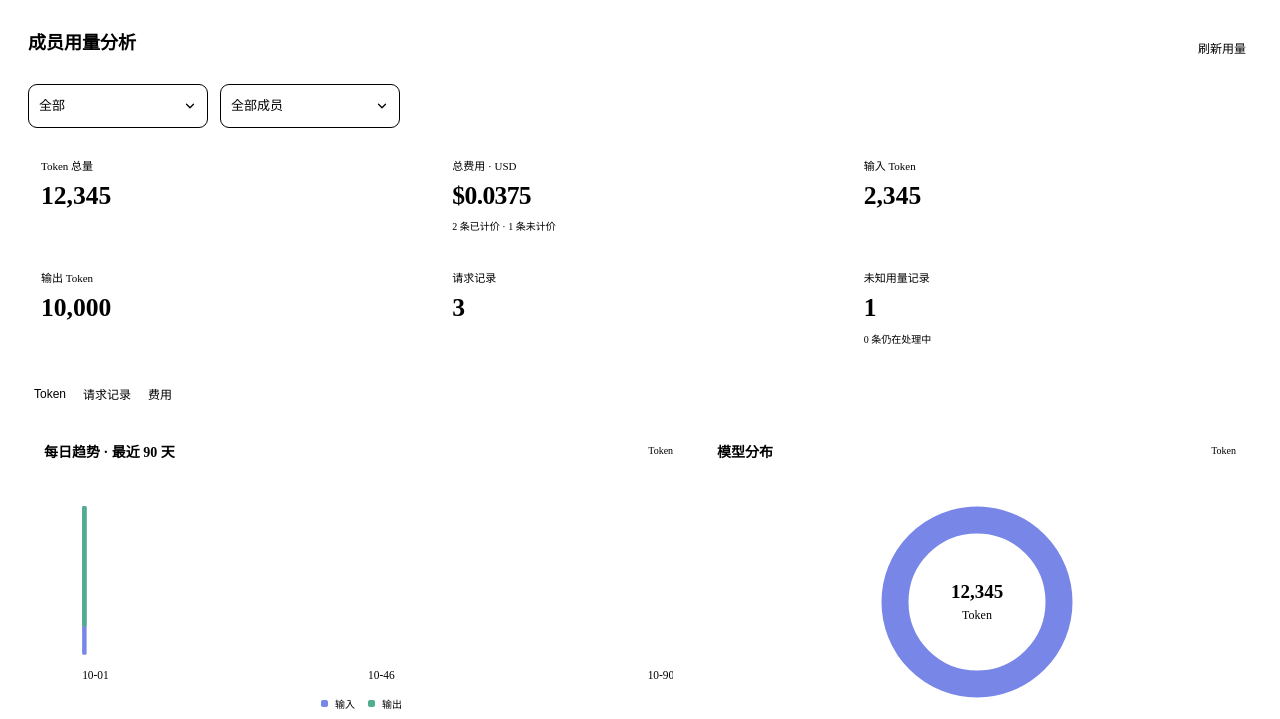
administrator filters member and range, switches chart units, and sees comparison
This screenshot has width=1280, height=719.
Press the mouse on the dropdown named "用量时间范围": (118,106) [28,84,208,128]
Click the dropdown named "用量时间范围": (118,106) [28,84,208,128]
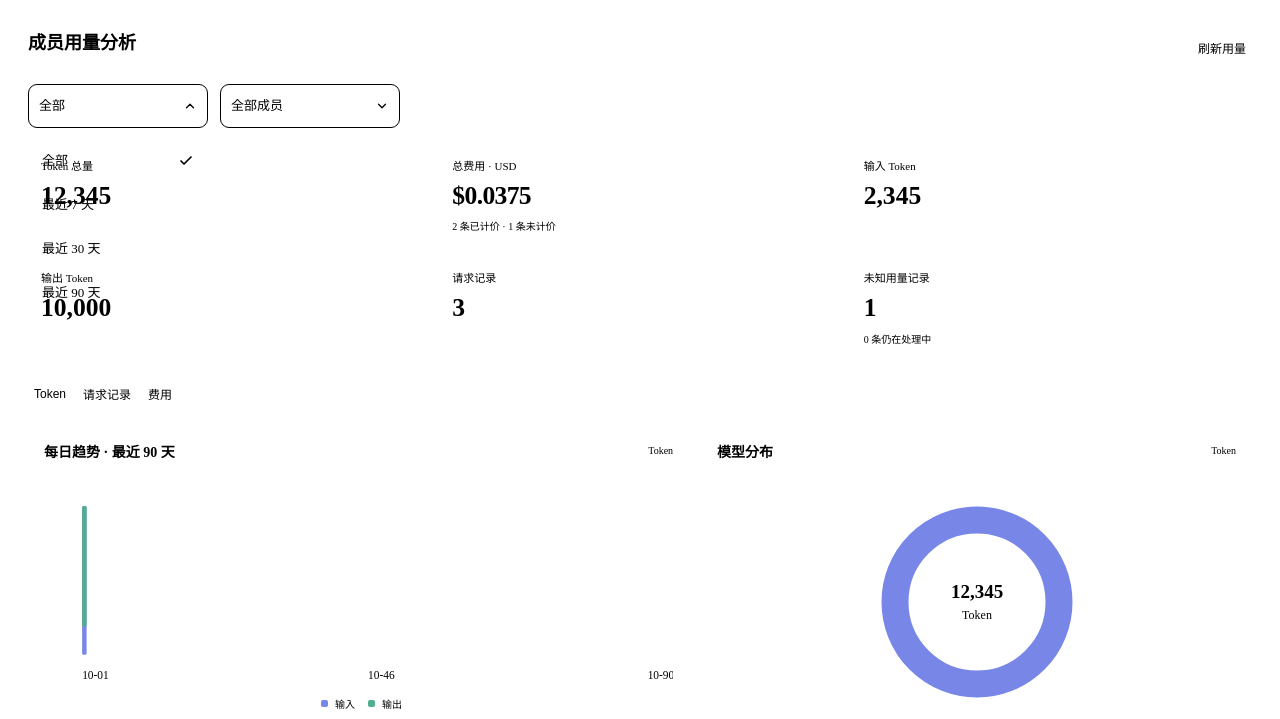
Click the option "最近 7 天": (68,204) [42,197,94,212]
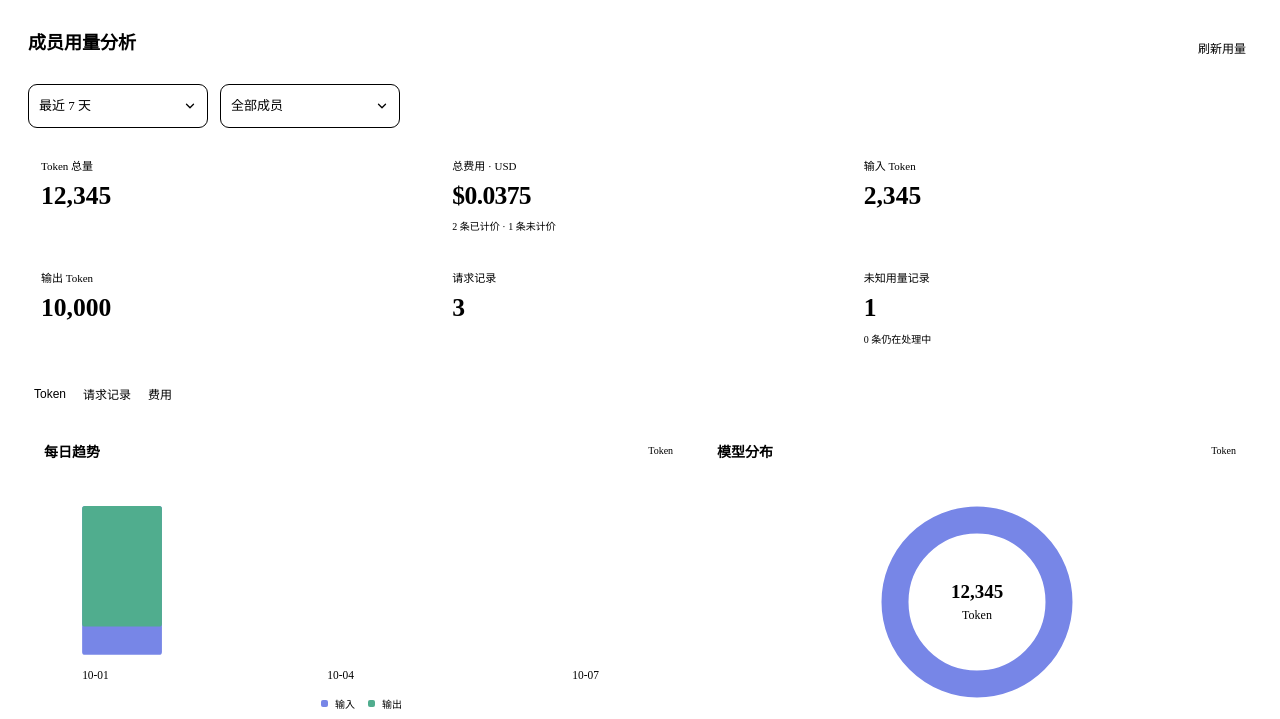
Press the mouse on the dropdown named "用量成员": (310,106) [220,84,400,128]
Click the dropdown named "用量成员": (310,106) [220,84,400,128]
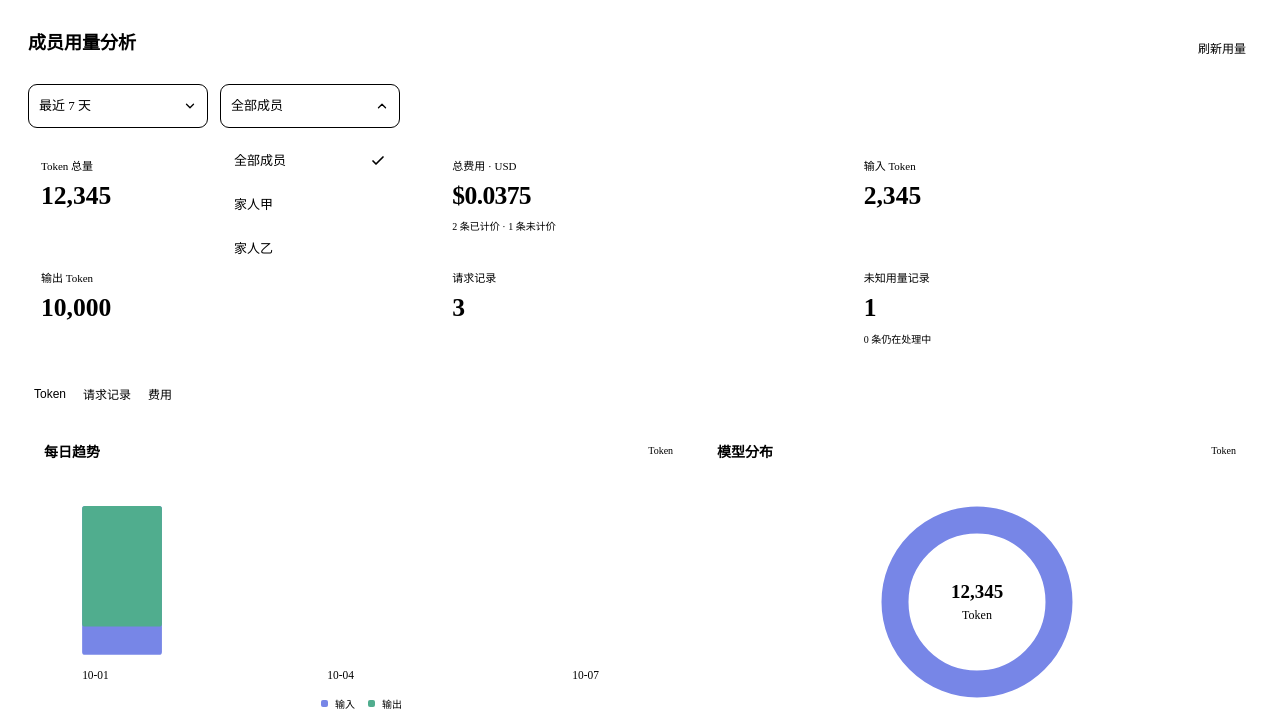
Click the option "家人乙": (254,248) [234,241,273,256]
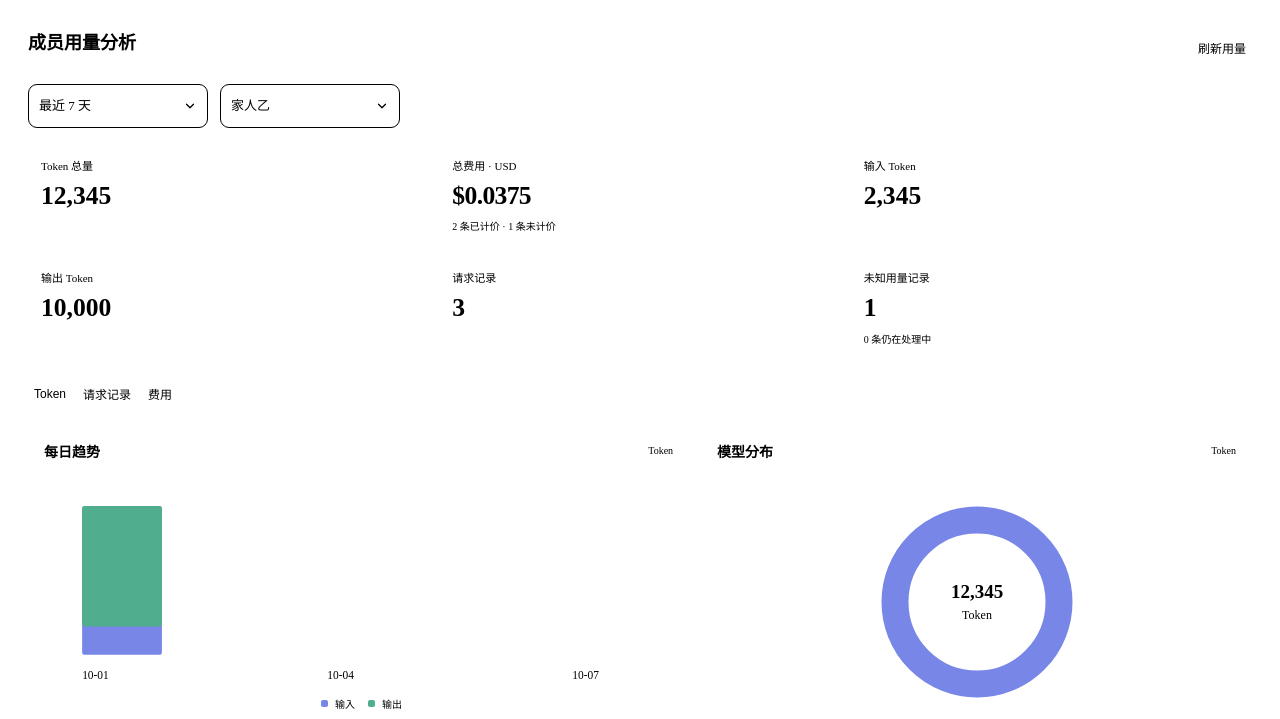
Expected: the picture named "最近7天" is shown, [44,486,673,696]
Click the button "费用": (160,394) [142,374,178,412]
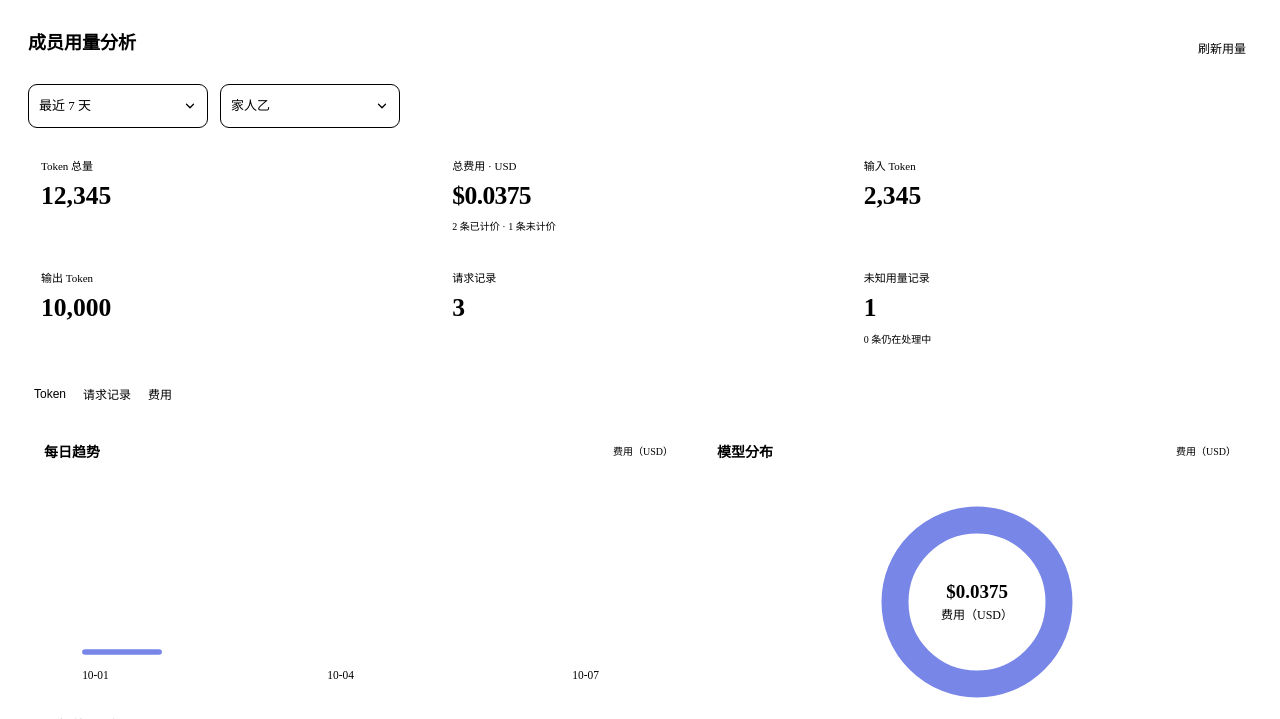
Expected: the picture named "模型费用（USD）占比" is shown, [862,486,1092,716]
Click the button "请求记录": (107,394) [77,374,137,412]
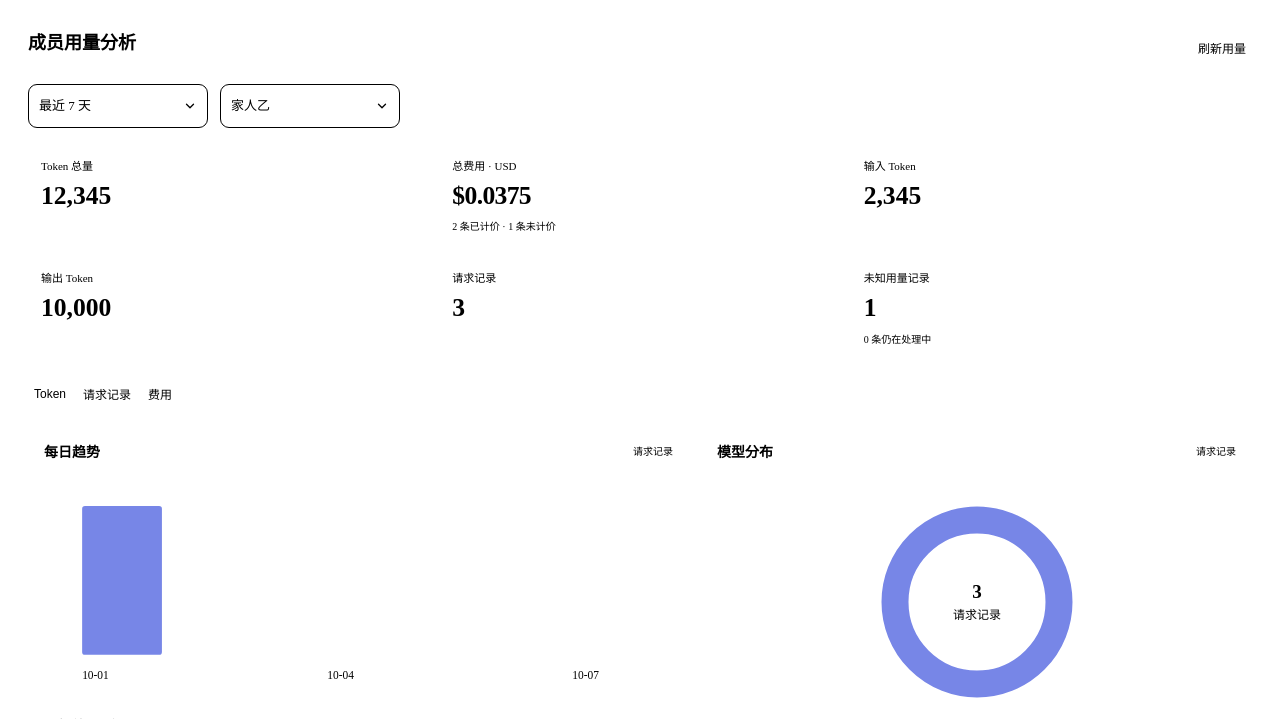
Expected: the picture named "模型请求记录占比" is shown, [862,486,1092,716]
